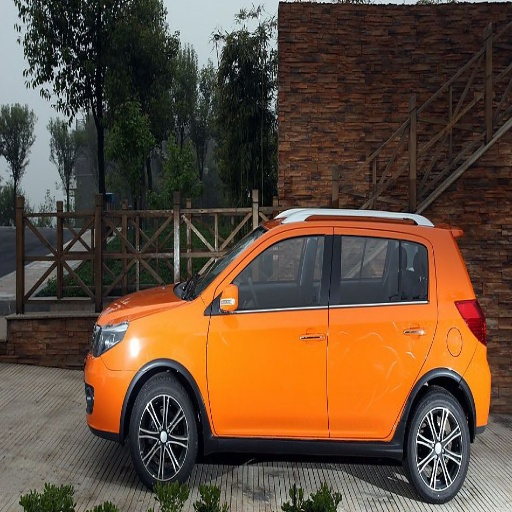back_left_door: (329, 224, 435, 436)
front_left_door: (207, 225, 332, 432)
